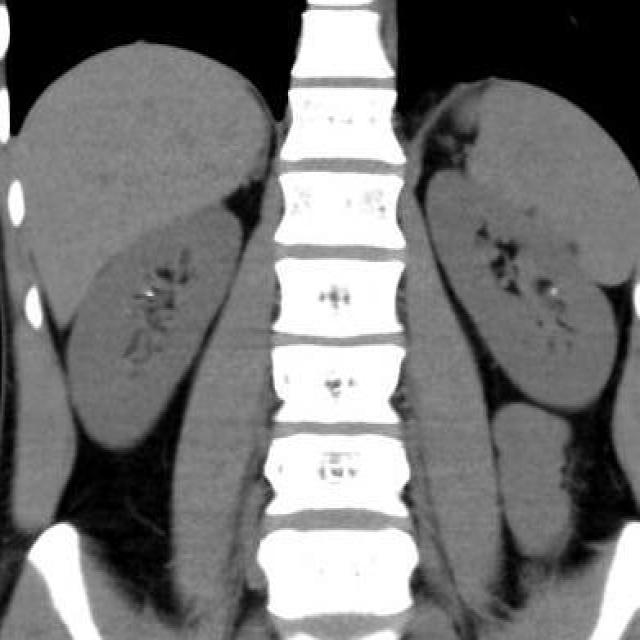Tas_Var: (548, 286, 562, 298), (146, 287, 156, 301)
